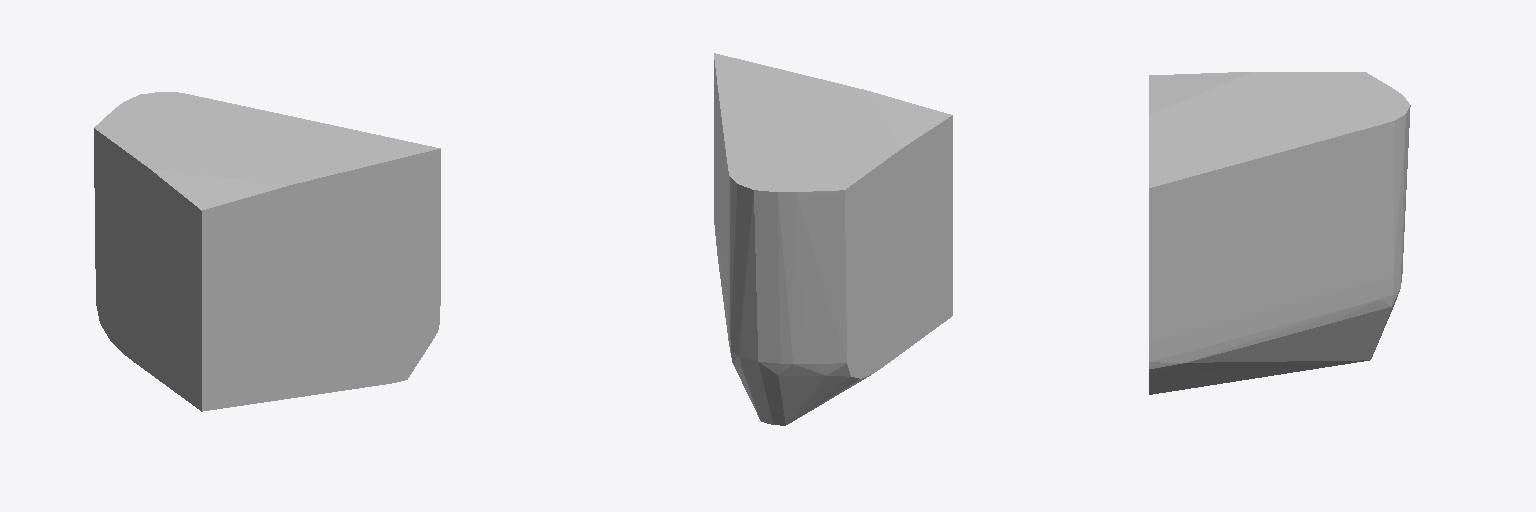
File: sofa_collision_18.obj
The picture shows the model from 3 angles: view 1: azimuth 30°, elevation 25°; view 2: azimuth 150°, elevation 25°; view 3: azimuth 270°, elevation 25°; orthographic projection.
Bounding box in the file's own units: 113 × 114 × 107.